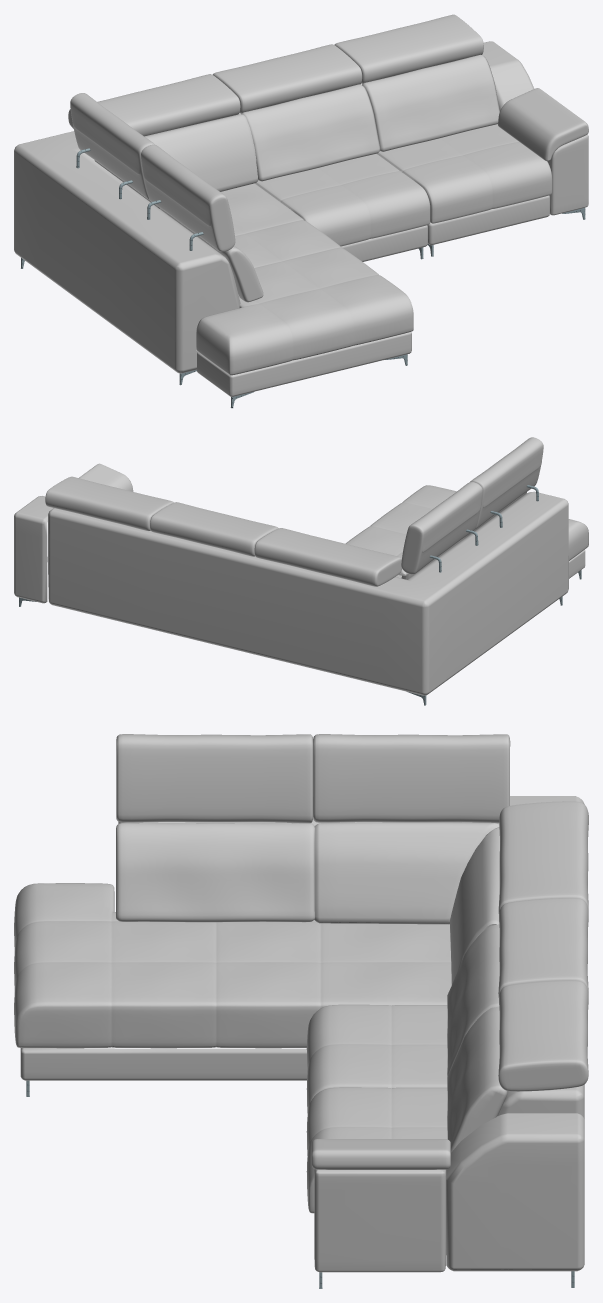
Rendered from sofa.gltf.
3 views of the same model, one above another, from view 1: azimuth 30°, elevation 25°; view 2: azimuth 150°, elevation 25°; view 3: azimuth 270°, elevation 25° (orthographic). The views are drawn at different scales.
Parts seen in each view (by area): view 1: Estructura, Sillon_Grande, Sillon_PequeFBXASC195FBXASC177o2, Sillon_PequeFBXASC195FBXASC177o, Cojin7, Cojin6, Cojin10, Cojin11, Cojin9, Cojin4, Cojin2, Base_Sillo1 (+7 smaller); view 2: Estructura, Cojin9, Cojin8, Cojin10, Cojin11, Sillon_Grande, Estructura2, Cojin2, Cojin5; view 3: Sillon_Grande, Estructura2, Cojin1, Cojin2, Cojin8, Cojin3, Estructura3, Sillon_PequeFBXASC195FBXASC177o, Cojin11, Base_Sillo1, Cojin9, Sillon_PequeFBXASC195FBXASC177o2 (+6 smaller).
Part boxes in pixels (x1,y1,x2,y2): Estructura: (14, 83, 362, 373); Sillon_Grande: (196, 183, 413, 375); Sillon_PequeFBXASC195FBXASC177o2: (377, 124, 552, 223); Sillon_PequeFBXASC195FBXASC177o: (255, 154, 430, 246); Cojin7: (362, 54, 499, 151); Cojin6: (241, 84, 380, 181); Cojin10: (212, 44, 362, 113); Cojin11: (334, 14, 483, 83); Cojin9: (68, 74, 240, 136); Cojin4: (144, 114, 258, 191); Cojin2: (141, 144, 235, 251); Base_Sillo1: (197, 332, 411, 396); Estructura: (47, 491, 568, 695); Cojin9: (254, 528, 401, 586); Cojin8: (401, 482, 482, 574); Cojin10: (150, 502, 278, 556); Cojin11: (45, 476, 173, 530); Sillon_Grande: (345, 485, 588, 578); Estructura2: (14, 496, 53, 603); Cojin2: (470, 437, 543, 529); Cojin5: (79, 463, 133, 491); Sillon_Grande: (14, 883, 451, 1048); Estructura2: (446, 1113, 584, 1271); Cojin1: (116, 823, 314, 922); Cojin2: (116, 734, 313, 823); Cojin8: (313, 734, 510, 823); Cojin3: (314, 822, 499, 924); Estructura3: (314, 1169, 446, 1272); Sillon_PequeFBXASC195FBXASC177o: (306, 1004, 447, 1112); Cojin11: (498, 980, 588, 1091); Base_Sillo1: (20, 1048, 307, 1080); Cojin9: (498, 801, 588, 913); Sillon_PequeFBXASC195FBXASC177o2: (306, 1087, 447, 1213).
Bounding box in the file's own units: 32.21 × 11.71 × 23.88.
